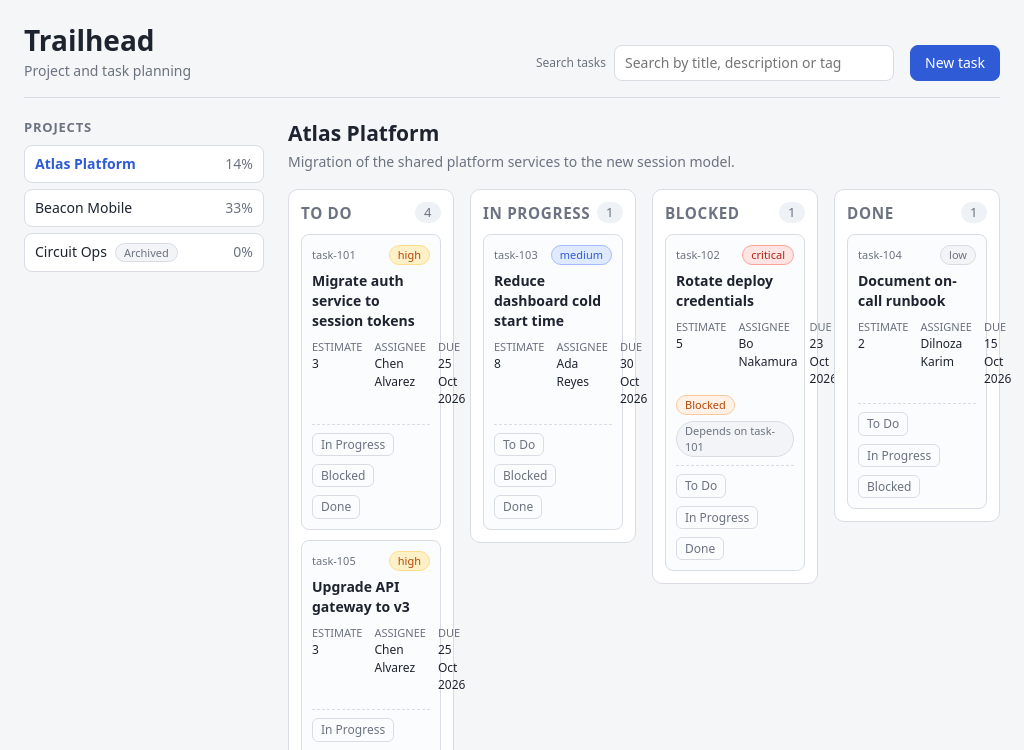
the new task form › rejects a title that is empty
This screenshot has width=1024, height=750.
expect the element with test id "task-card-task-101" is shown: met, box [301,234,441,530]
Step 1. Click the button "New task" → (955, 63), box [910,45,1000,81]
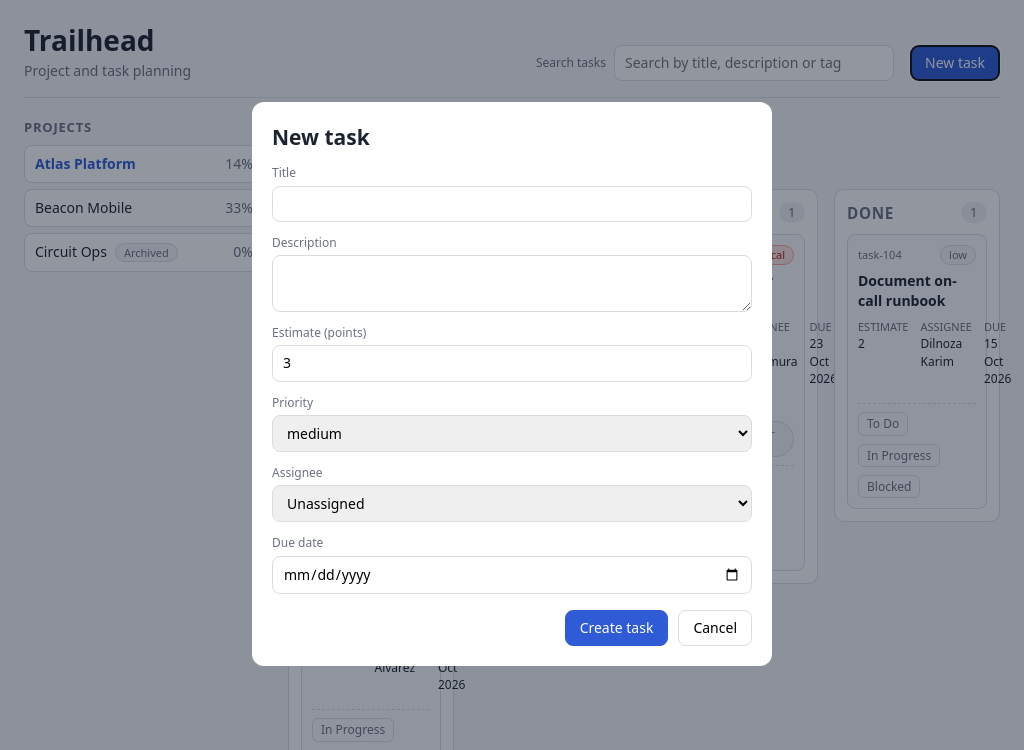
Step 2. Click the button "Create task" → (616, 628), box [565,610,668,646]
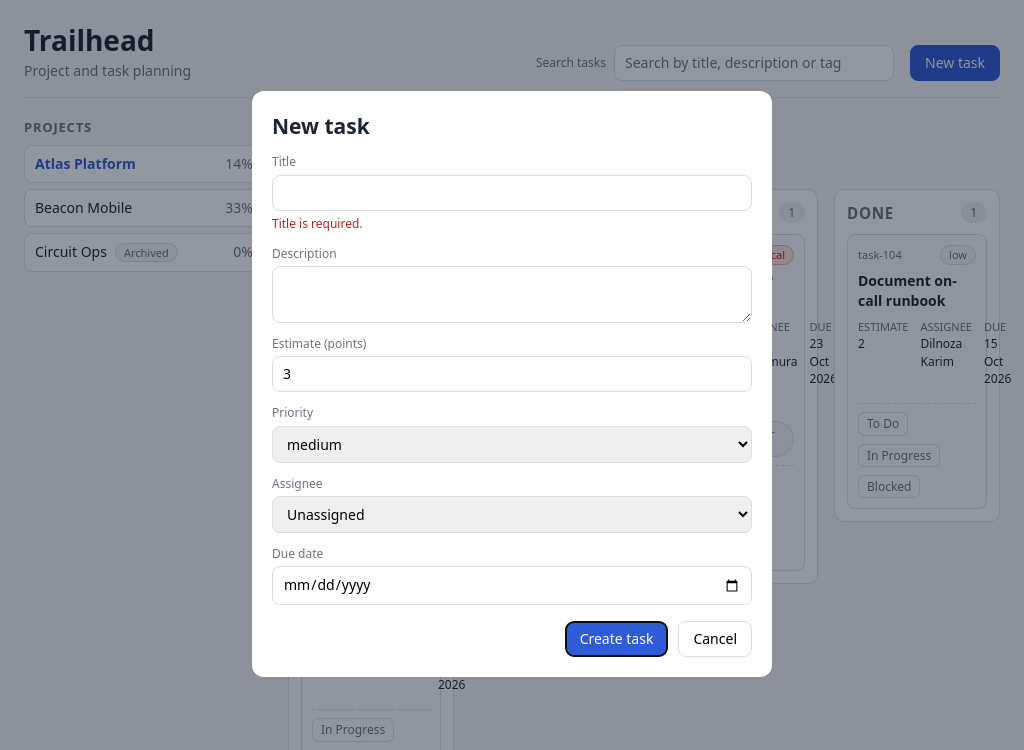
expect the message with test id "field-error-title" shows "Title is required": met, box [272,215,362,232]
